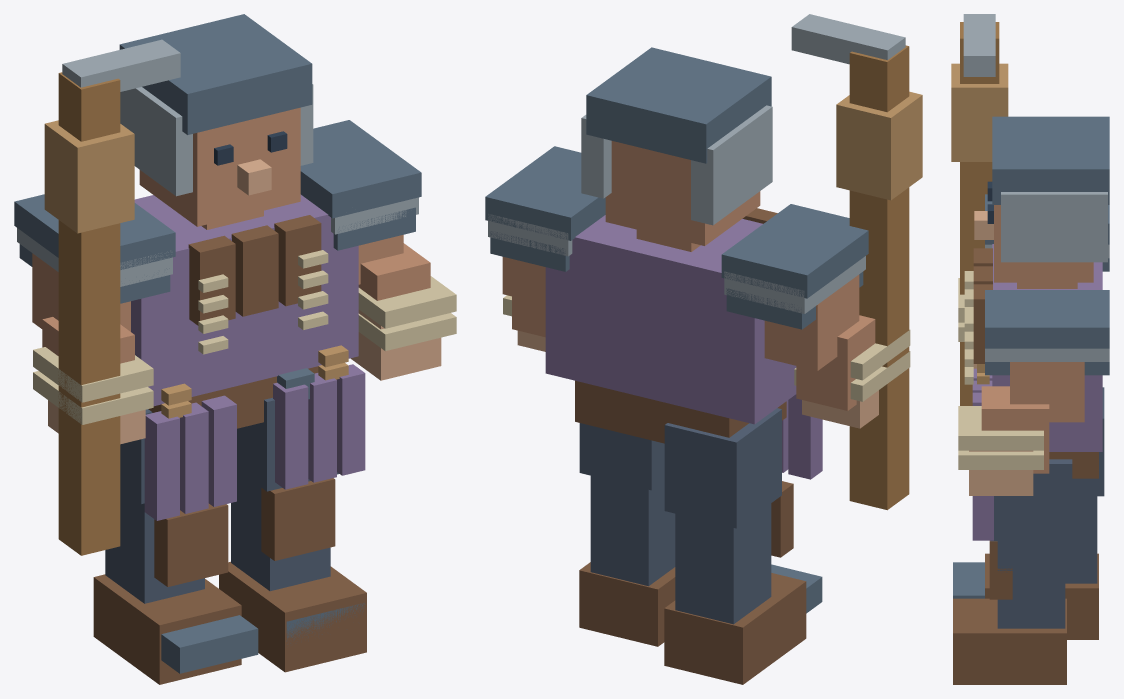
Rendered from arena-q-pole-master.glb.
The picture shows the model from 3 angles, left to right: view 1: azimuth 30°, elevation 25°; view 2: azimuth 150°, elevation 25°; view 3: azimuth 270°, elevation 25°; orthographic projection. The views are drawn at different scales.
Visible parts, largest first — view 1: Weapon, Boots, Cloth, Helmet, Skirt, Shoulders, Legs, Greaves, Wraps, Head, Vest, Arms (+4 smaller); view 2: Cloth, Legs, Weapon, Shoulders, Helmet, Boots, Arms, Head, Belt, Wraps, Skirt, Hands (+1 smaller); view 3: Helmet, Legs, Boots, Shoulders, Weapon, Arms, Wraps, Cloth, Head, Hands, Vest, Skirt (+4 smaller).
Boxes of the visible parts, x1,y1,x2,y2 form: Weapon: (44,39,180,555); Boots: (93,561,366,684); Cloth: (131,194,358,406); Helmet: (119,14,313,196); Skirt: (144,364,365,520); Shoulders: (14,120,421,303); Legs: (105,397,339,603); Greaves: (154,478,335,586); Wraps: (33,276,456,424); Head: (139,107,300,229); Vest: (188,215,321,325); Arms: (32,235,430,363); Cloth: (545,215,796,424); Legs: (579,408,781,624); Weapon: (791,14,922,510); Shoulders: (485,146,868,329); Helmet: (581,47,772,225); Boots: (579,562,822,684); Arms: (502,257,875,410); Head: (605,141,760,251); Belt: (575,380,786,443); Wraps: (503,295,910,401); Skirt: (782,394,822,479); Hands: (517,330,878,428); Helmet: (992,116,1109,262); Legs: (990,387,1104,628); Boots: (953,553,1098,684); Shoulders: (985,194,1109,375); Weapon: (951,14,1008,405); Arms: (981,362,1084,473); Wraps: (958,278,1043,469); Cloth: (992,244,1102,451); Head: (994,205,1093,288); Hands: (969,364,1033,495); Vest: (973,248,992,363); Skirt: (972,368,993,540).
Bounding box in the file's own units: 1.13 × 1.8 × 0.4677.
